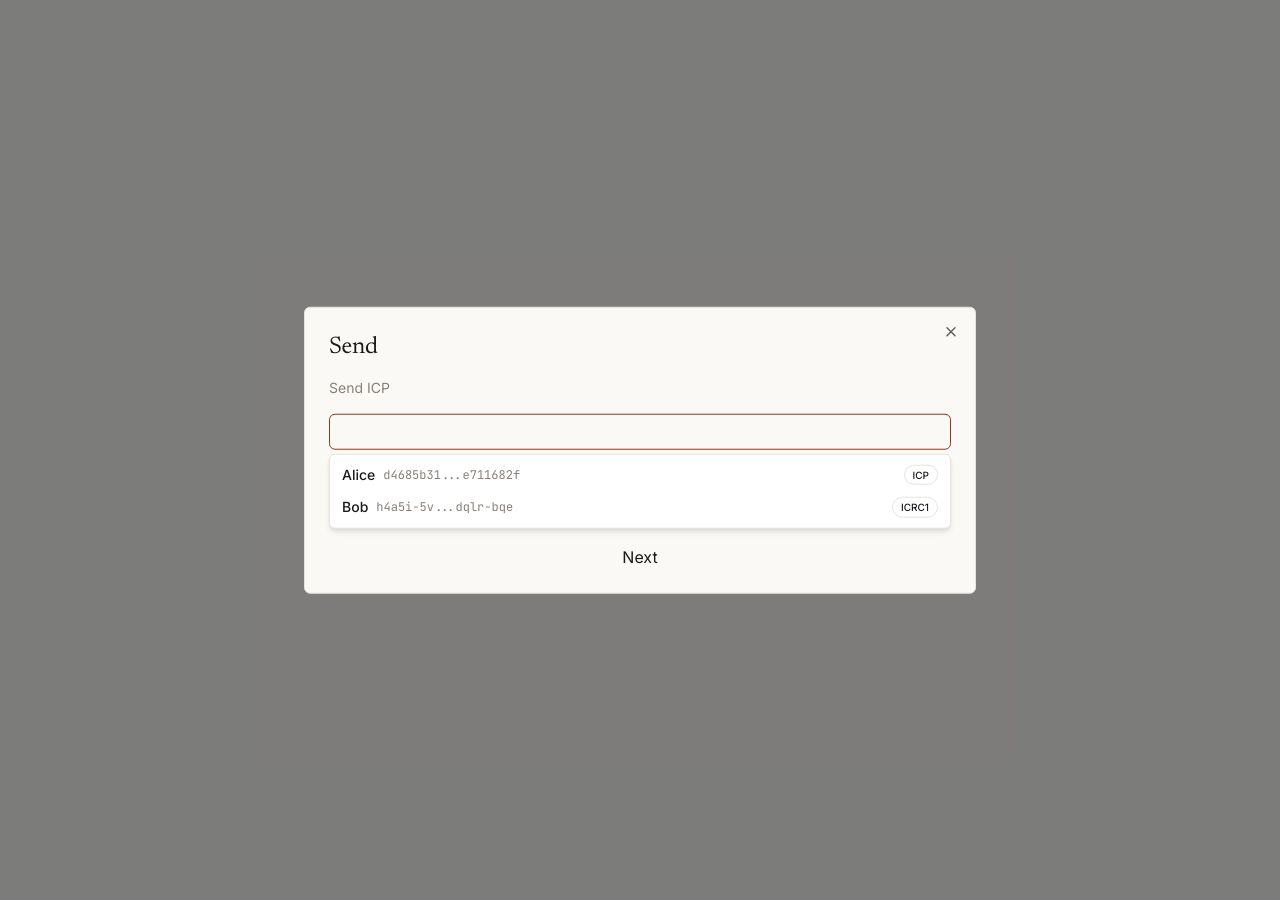
Test case: DestinationInput › closes the list opened from the chip with Escape and keeps the chip
Click the text "Alice": (359, 475) [342,465,375,485]
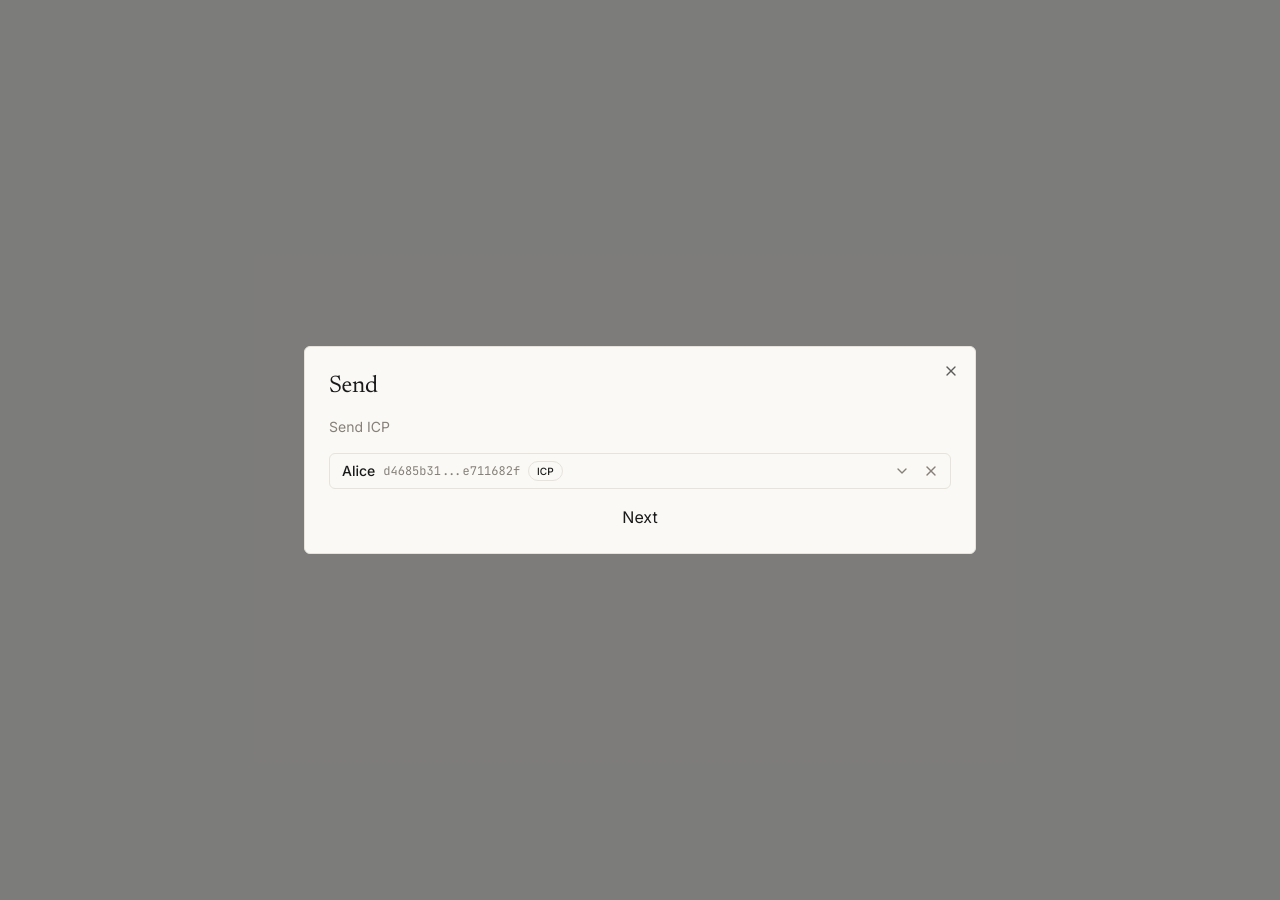
Click the dropdown with test id "destination-selected": (359, 470) [329,453,951,489]
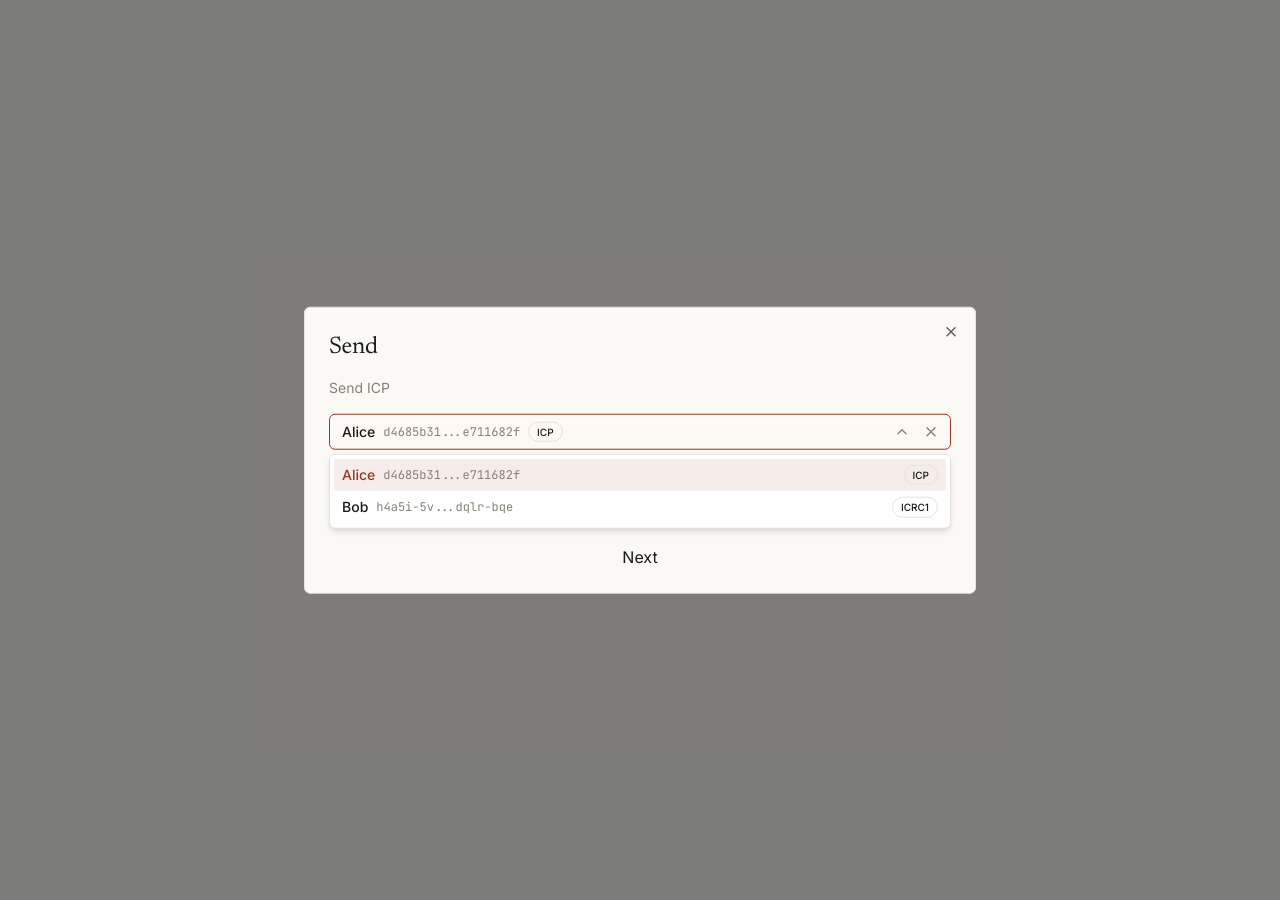
Now the list is shown, box [334,459,946,523]
Press Escape in the dropdown with test id "destination-selected", box [329,414,951,450]
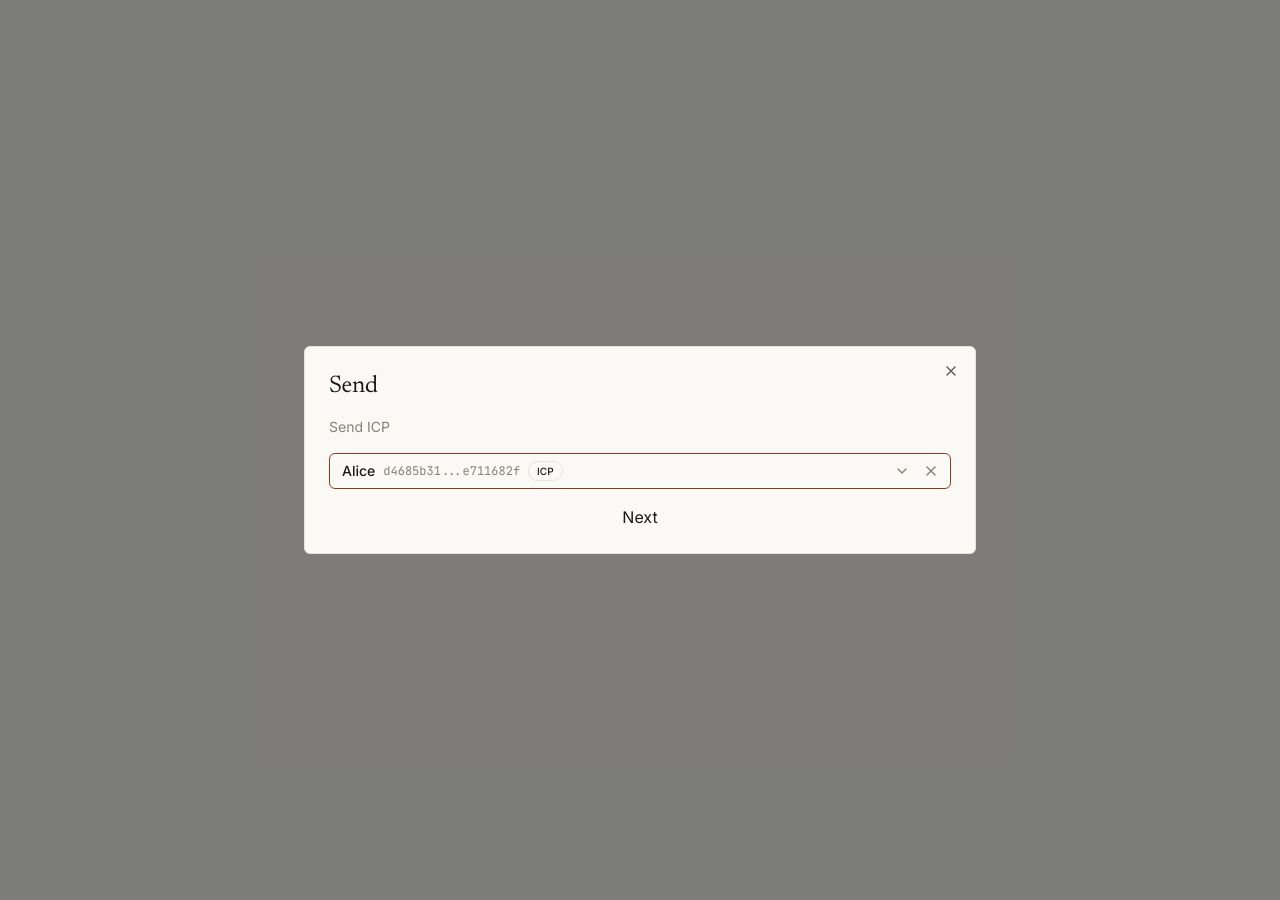
Expected: the dropdown with test id "destination-selected" shows "Alice", [329,453,951,489]
Now the list is gone
